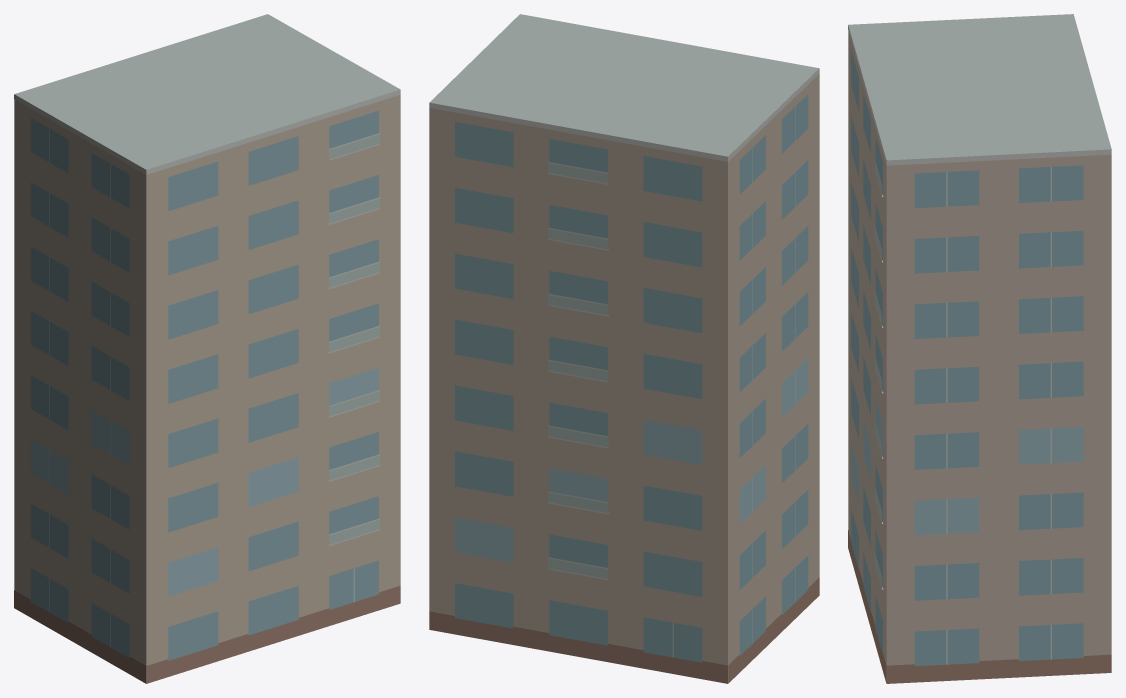
The model's file is survey-upis-32743716.glb.
3 renders of one model, left to right at view 1: azimuth 30°, elevation 25°; view 2: azimuth 150°, elevation 25°; view 3: azimuth 270°, elevation 25°, orthographic. The views are drawn at different scales.
Visible parts, largest first — view 1: survey-upis-32743716.tmp; view 2: survey-upis-32743716.tmp; view 3: survey-upis-32743716.tmp.
Boxes of the visible parts, box(x1,y1,x2,y2) form: survey-upis-32743716.tmp: box(14, 14, 400, 683); survey-upis-32743716.tmp: box(429, 14, 819, 683); survey-upis-32743716.tmp: box(848, 14, 1111, 683).
Bounding box in the file's own units: 14.65 × 24.4 × 11.14.
